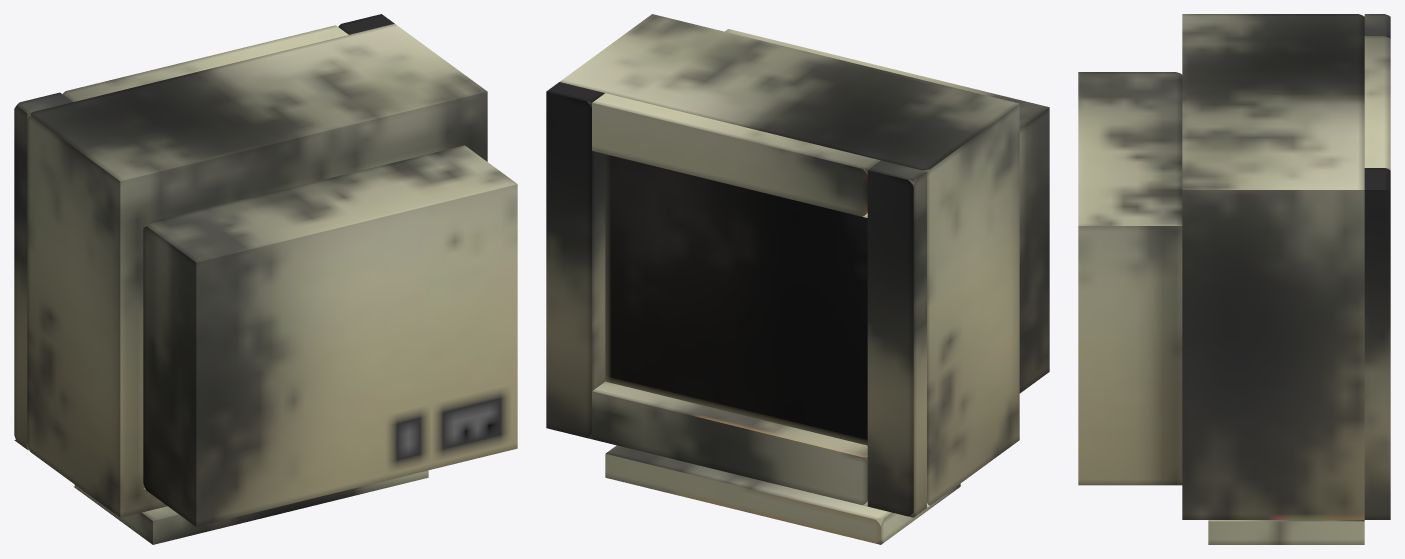
The model's file is monitor.obj.
The picture shows the model from 3 angles, left to right: view 1: azimuth 30°, elevation 25°; view 2: azimuth 150°, elevation 25°; view 3: azimuth 270°, elevation 25°; orthographic projection.
Visible parts, largest first — view 1: nA, nz, nB, nx, nD, nC; view 2: nz, nB, nC, nD, nE, nx, nA; view 3: nz, nA, nC, nx, nD, nB.
Boxes of the visible parts, bbox=[...] form: nA: bbox=[143, 145, 517, 526]; nz: bbox=[27, 23, 487, 517]; nB: bbox=[14, 92, 72, 449]; nx: bbox=[73, 470, 428, 544]; nD: bbox=[63, 25, 348, 101]; nC: bbox=[338, 14, 394, 34]; nz: bbox=[560, 14, 1019, 507]; nB: bbox=[867, 160, 926, 517]; nC: bbox=[546, 82, 605, 439]; nD: bbox=[592, 93, 880, 217]; nE: bbox=[592, 381, 867, 506]; nx: bbox=[605, 445, 960, 544]; nA: bbox=[725, 29, 1049, 393]; nz: bbox=[1182, 14, 1364, 519]; nA: bbox=[1078, 72, 1182, 485]; nC: bbox=[1364, 168, 1390, 519]; nx: bbox=[1208, 520, 1364, 544]; nD: bbox=[1364, 36, 1390, 170]; nB: bbox=[1364, 14, 1390, 38].
Bounding box in the file's own units: 1 × 1 × 0.75.
1 material, 1 textured.
